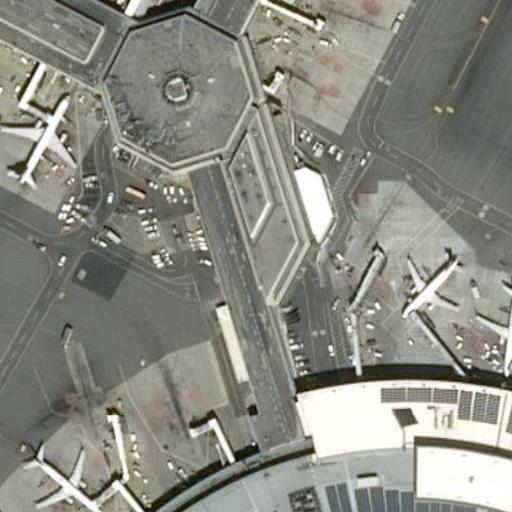Aircraft: (0, 91, 81, 190), (393, 241, 463, 324), (22, 442, 95, 512), (477, 279, 512, 369), (0, 509, 34, 512)
